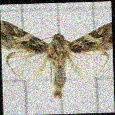Spodoptera litura: (1, 18, 113, 100)
